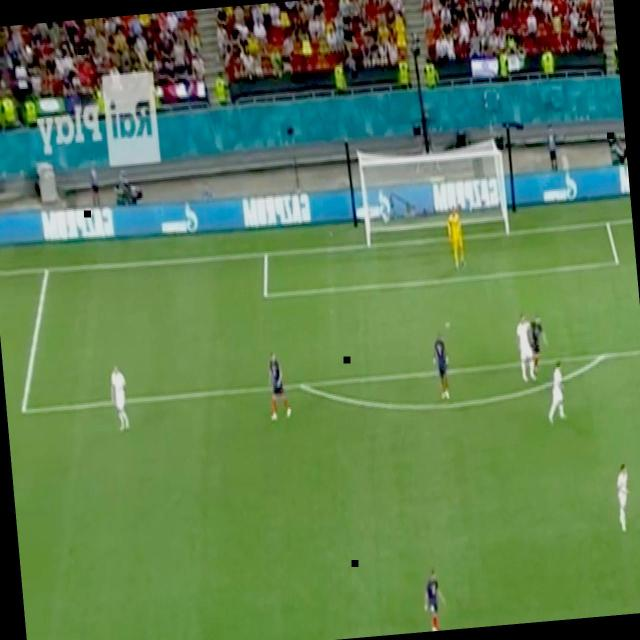player-white: (264, 347, 294, 427), (428, 326, 456, 409), (419, 562, 451, 632), (541, 358, 571, 430), (514, 307, 540, 387), (611, 458, 637, 536), (106, 356, 132, 434), (444, 203, 469, 275), (526, 308, 552, 376)
